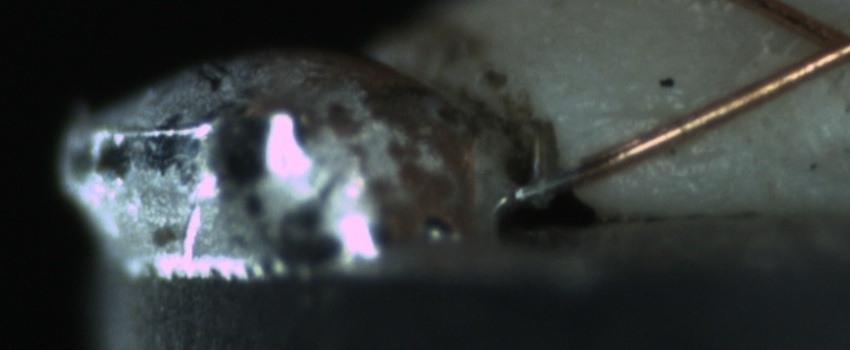CL: (779, 5, 850, 83)
DL: (568, 82, 701, 146)
TS: (511, 166, 579, 203)
